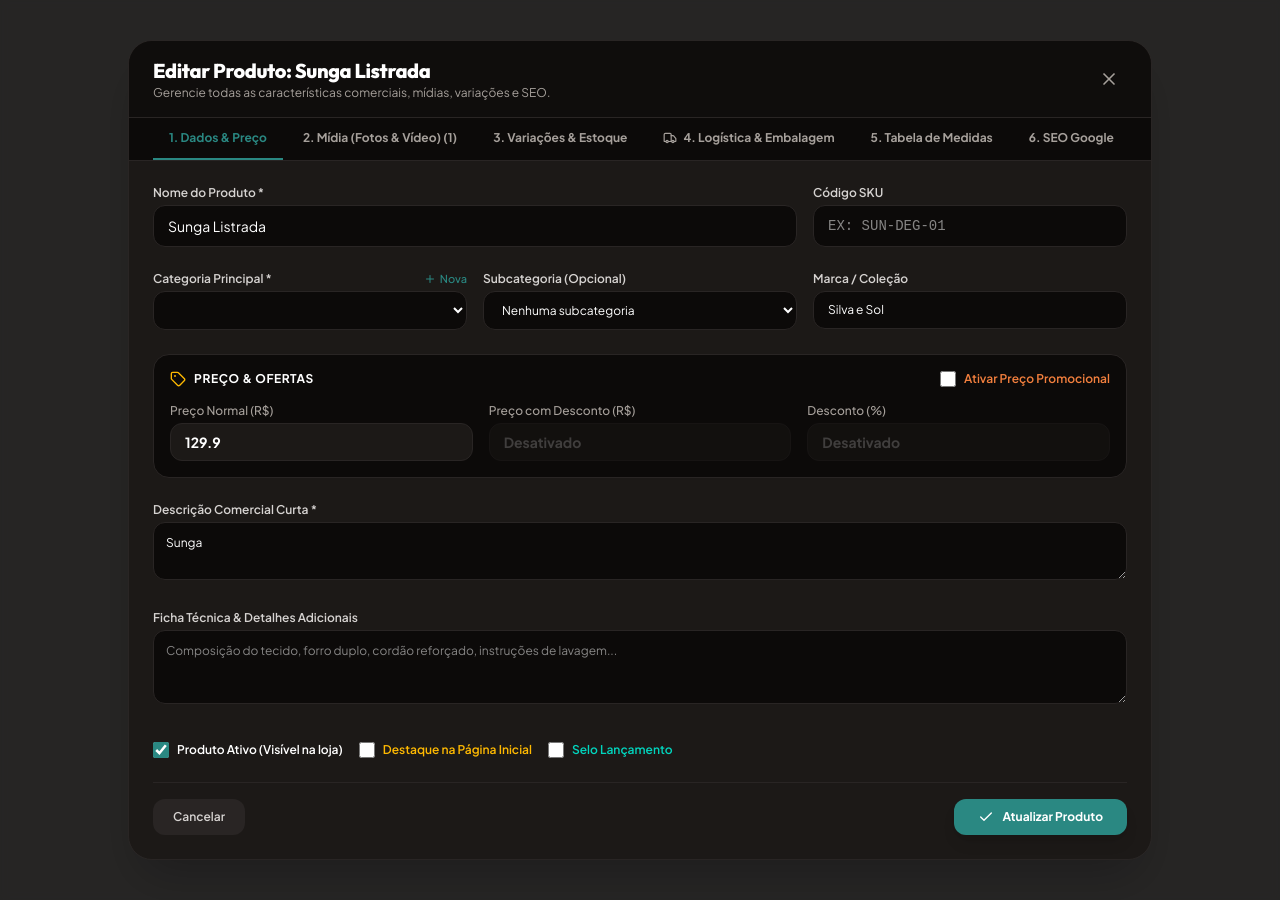
Test: AdminProductModal - desconto em % › digitar o % calcula o preço promocional
Step 1. Click the checkbox labelled "Ativar Preço Promocional" → coordinates (948, 379), box [940, 371, 956, 387]
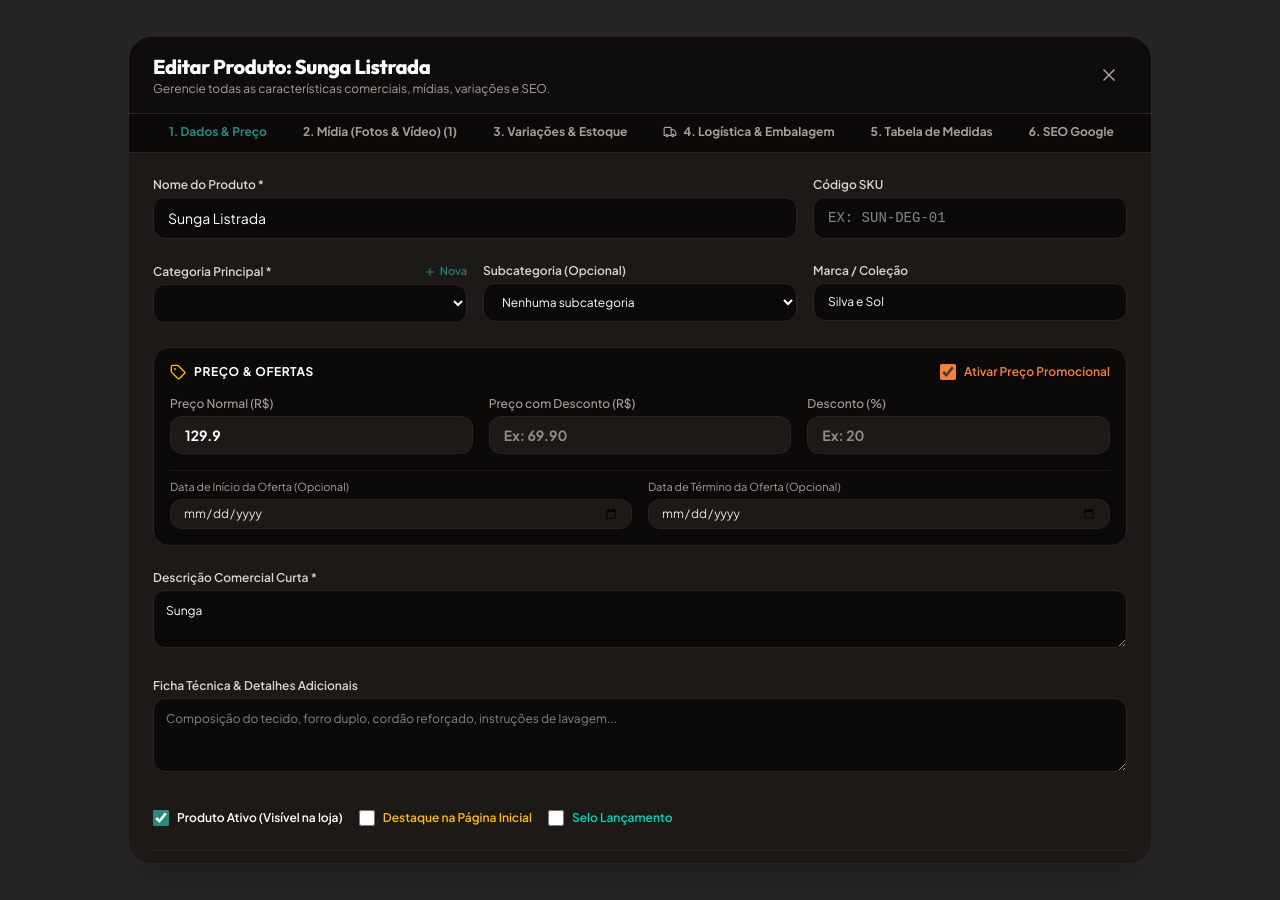
Step 2. Type "20" into the field labelled "Desconto (%)" → coordinates (959, 435), box [807, 416, 1110, 454]
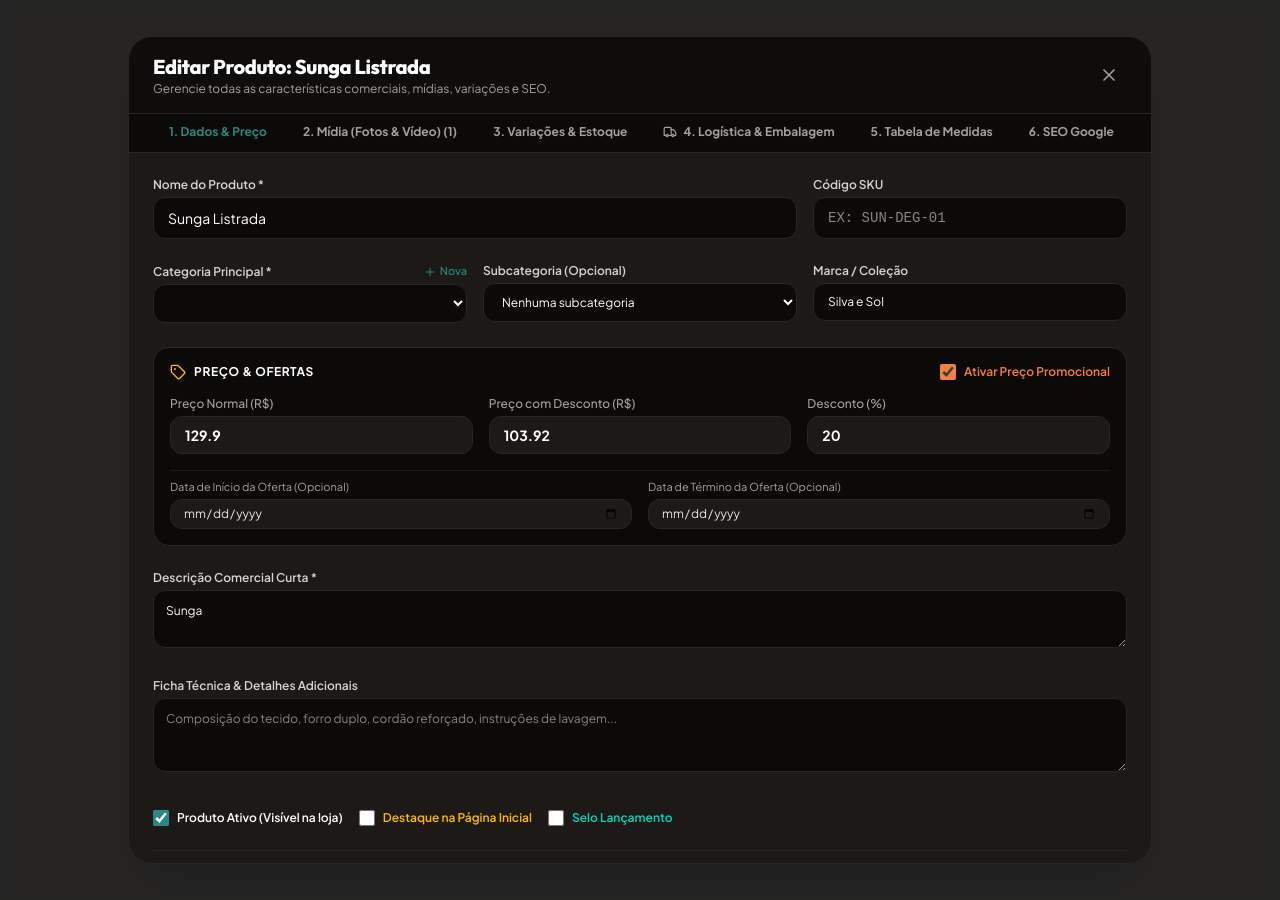
Check: the number field labelled "Preço com Desconto (R$)" holds "103.92", box [489, 416, 791, 454]
